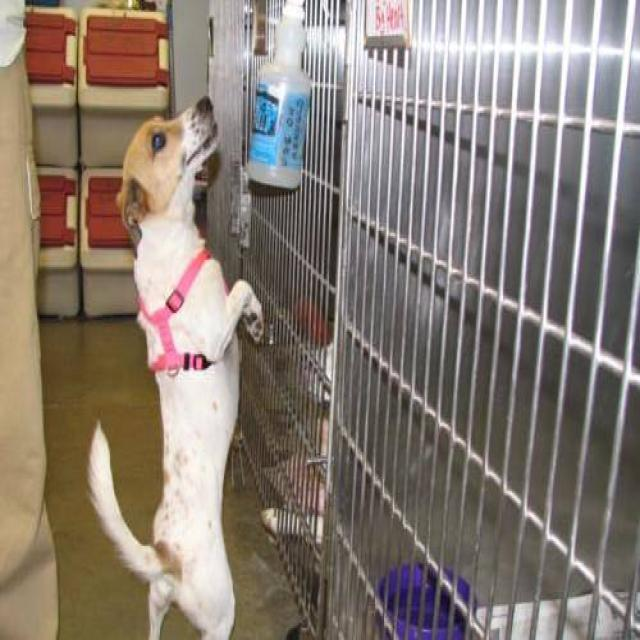dog: (84, 94, 265, 638)
